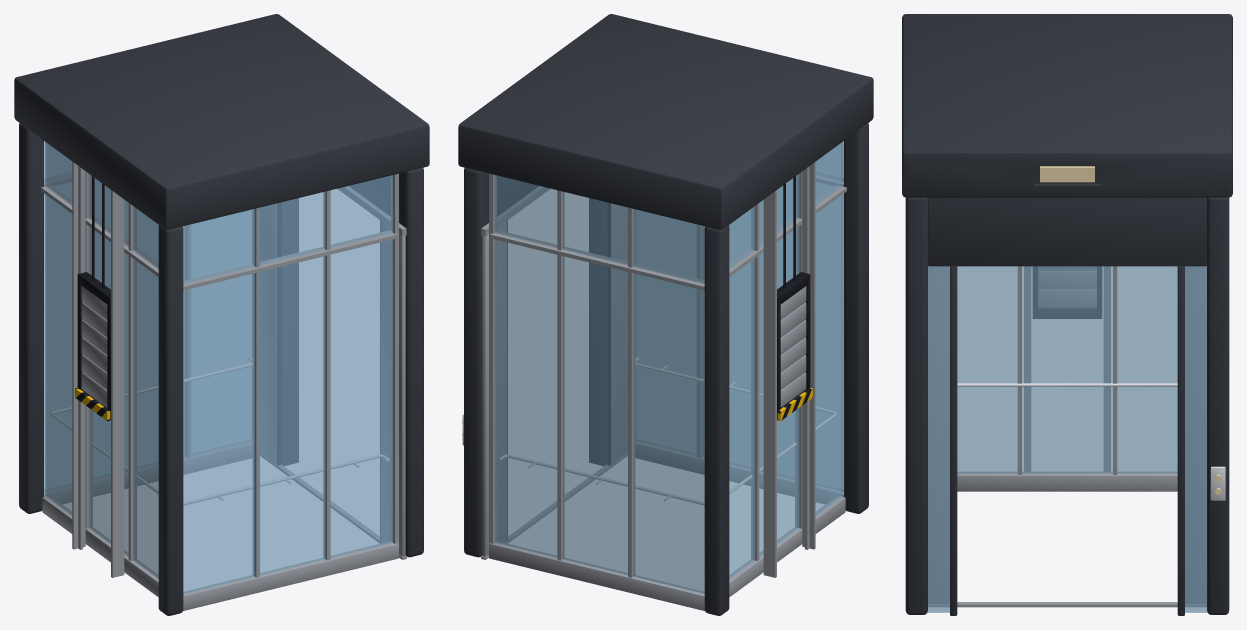
Rendered from G_LiftCab.fbx.
3 renders of one model, left to right at view 1: azimuth 30°, elevation 25°; view 2: azimuth 150°, elevation 25°; view 3: azimuth 270°, elevation 25°, orthographic. The views are drawn at different scales.
Visible parts, largest first — view 1: Glass, Frame.001, Metal.007, Dark.006, Chrome.006, Rubber.004; view 2: Glass, Frame.001, Metal.007, Dark.006, Chrome.006, Rubber.004; view 3: Frame.001, Glass, Metal.007, Chrome.006, Dark.006, Glow.001.
Boxes of the visible parts, x1,y1,x2,y2 form: Glass: [44, 141, 393, 594]; Frame.001: [14, 14, 429, 615]; Metal.007: [41, 162, 406, 610]; Dark.006: [75, 176, 110, 421]; Chrome.006: [51, 357, 389, 504]; Rubber.004: [277, 203, 380, 540]; Glass: [494, 141, 843, 594]; Frame.001: [458, 14, 873, 615]; Metal.007: [481, 162, 846, 610]; Dark.006: [777, 176, 812, 420]; Chrome.006: [462, 357, 836, 504]; Rubber.004: [507, 203, 610, 540]; Frame.001: [902, 14, 1232, 615]; Glass: [927, 266, 1207, 612]; Metal.007: [928, 266, 1206, 607]; Chrome.006: [957, 383, 1225, 500]; Dark.006: [1033, 266, 1101, 318]; Glow.001: [1040, 166, 1221, 494].
Size of the model in its own units: 9 by 14 by 9.
